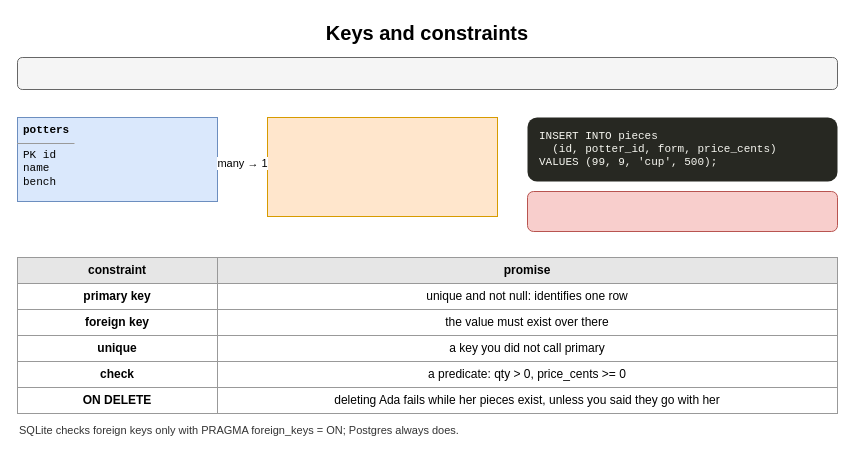
The diagram is 855 pixels wide and 456 high, and some of its shapes have lost their labels. The centre of each missing label's shape, as x and y in pixels:
"Name the key before the query. Let the database reject the impossible rows" belongs at point (427, 73).
"pieces PK id FK potter_id → potters.id form price_cents CHECK >= 0" belongs at point (382, 166).
"✗ FOREIGN KEY constraint failed (there is no potter 9)" belongs at point (682, 211).
